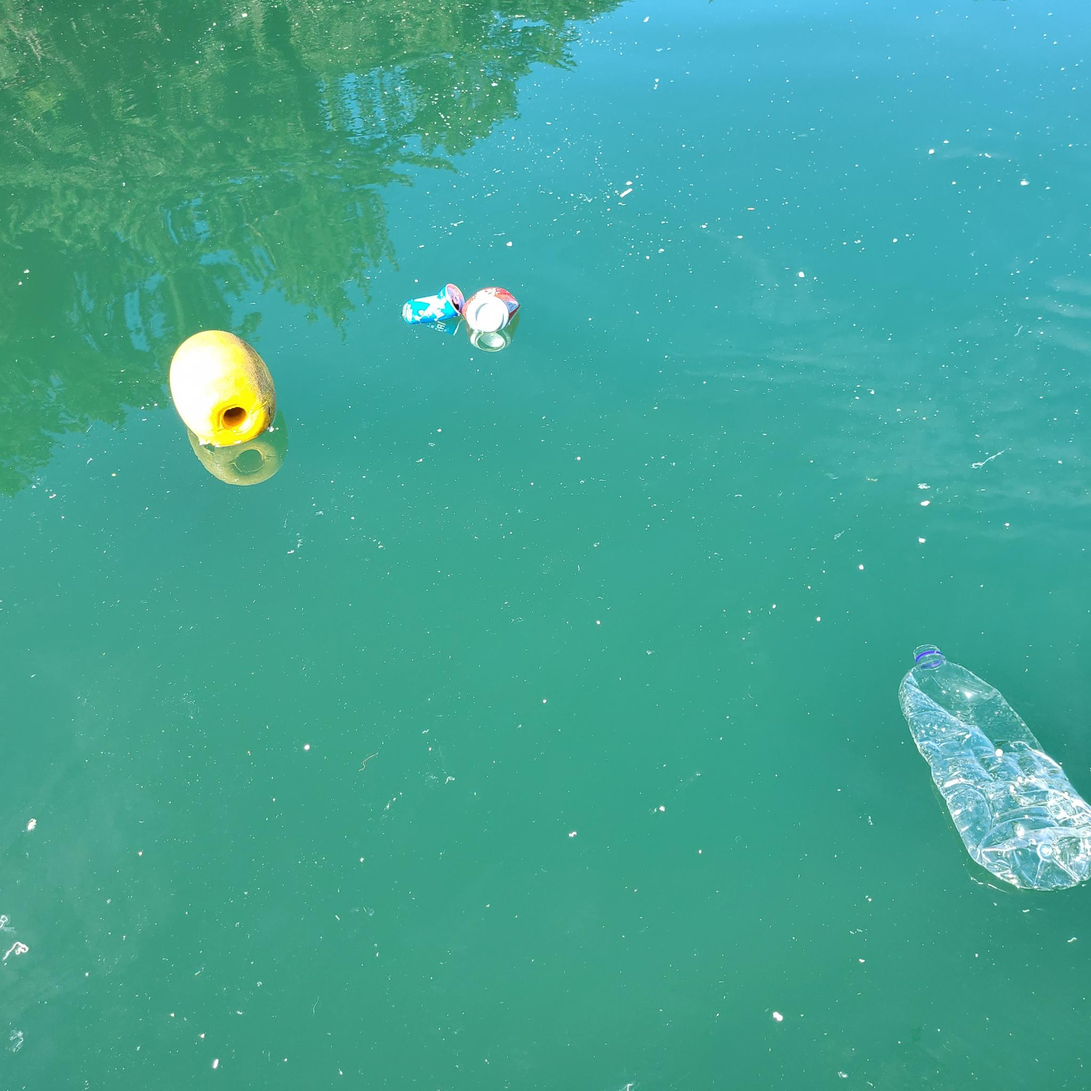sampah_terapung: (899, 645, 1091, 891), (170, 330, 276, 447), (461, 287, 521, 332), (403, 284, 466, 325)
